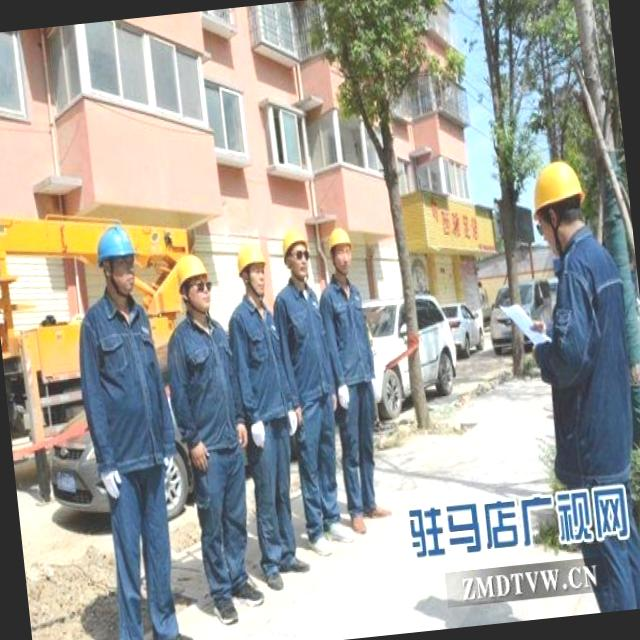helmet: (526, 160, 584, 210), (96, 224, 138, 263), (172, 246, 206, 284), (276, 222, 309, 250), (236, 246, 264, 275), (328, 222, 349, 248)
no-vest: (542, 235, 638, 460), (80, 300, 171, 482), (173, 315, 242, 453), (278, 275, 332, 402), (239, 294, 287, 422), (325, 268, 376, 386)
